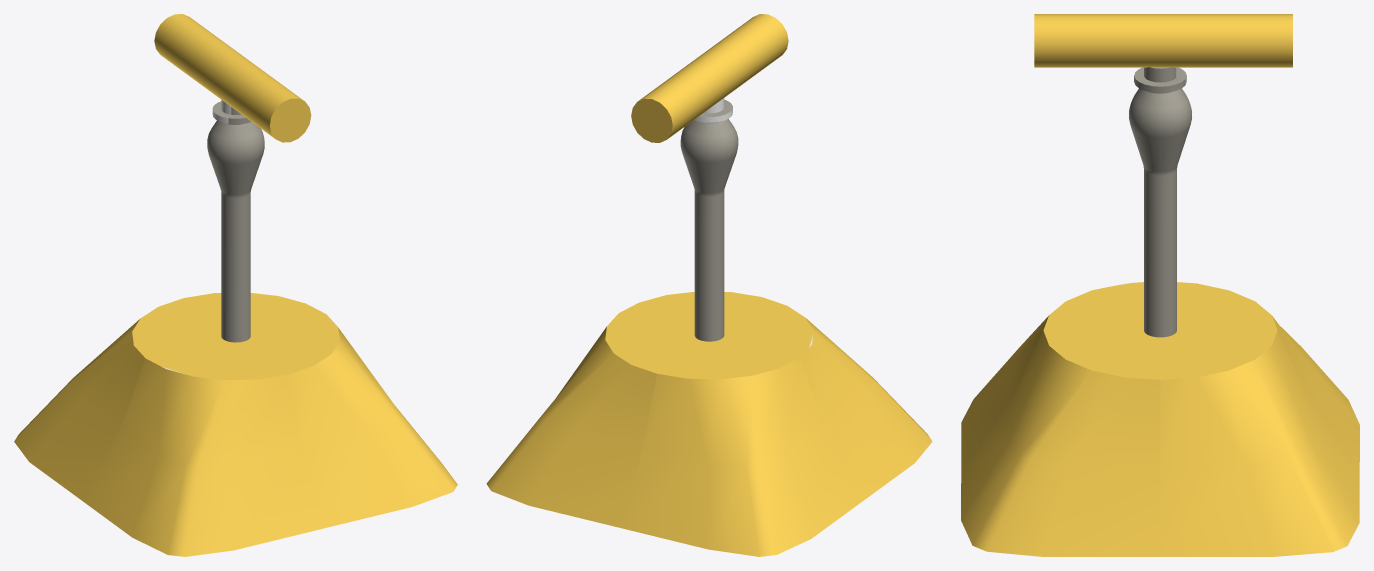
File: dDevice.fbx
The picture shows the model from 3 angles, left to right: view 1: azimuth 30°, elevation 25°; view 2: azimuth 150°, elevation 25°; view 3: azimuth 270°, elevation 25°; orthographic projection. The views are drawn at different scales.
Parts seen in each view (by area): view 1: pedestal, dDeviceHandle; view 2: pedestal, dDeviceHandle; view 3: pedestal, dDeviceHandle.
Part boxes in pixels (box(x1,y1,x2,y2)): pedestal: box(14, 293, 457, 556); dDeviceHandle: box(154, 14, 311, 342); pedestal: box(486, 292, 932, 556); dDeviceHandle: box(631, 14, 788, 341); pedestal: box(961, 282, 1359, 556); dDeviceHandle: box(1034, 14, 1292, 337).
Size of the model in its own units: 127 by 161 by 127.
Materials: 1 (1 with a texture image).
